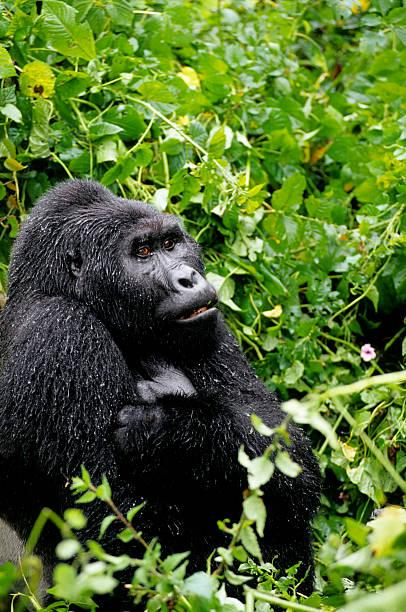goriile_montagne: (5, 169, 339, 612)
